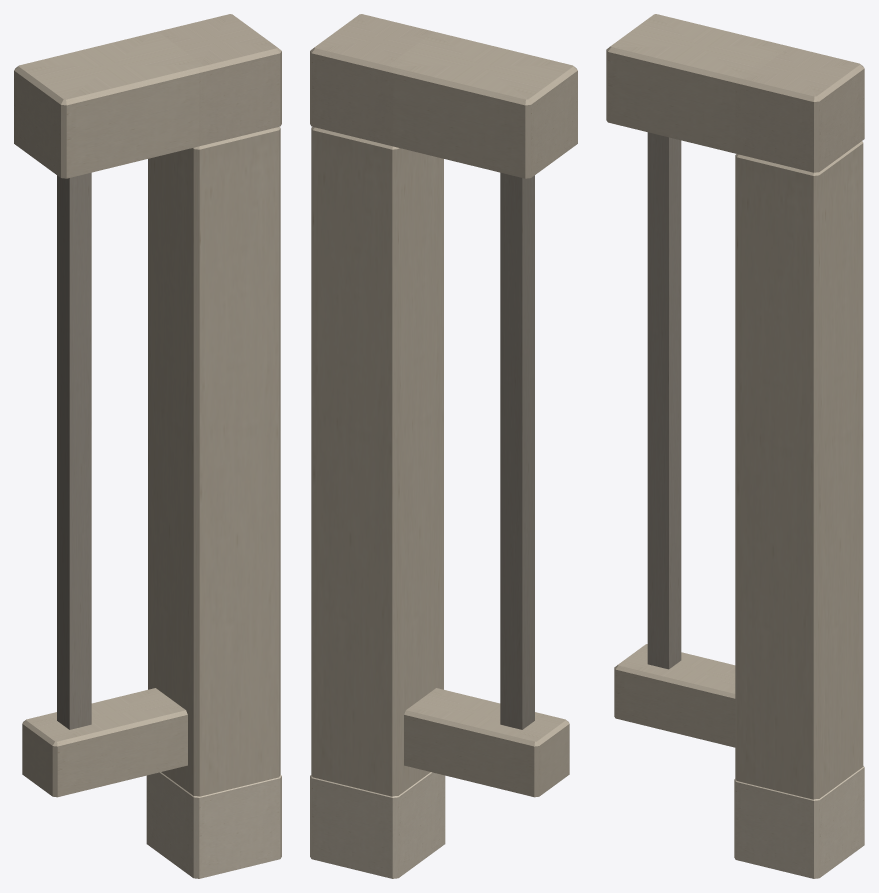
File: porch_railing_end.glb
3 renders of one model, left to right at view 1: azimuth 30°, elevation 25°; view 2: azimuth 150°, elevation 25°; view 3: azimuth 330°, elevation 25°, orthographic. The views are drawn at different scales.
Visible parts, largest first — view 1: outdoor_porch_railing_end; view 2: outdoor_porch_railing_end; view 3: outdoor_porch_railing_end.
Boxes of the visible parts, x1=… form: outdoor_porch_railing_end: x1=14, y1=14, x2=281, y2=878; outdoor_porch_railing_end: x1=310, y1=14, x2=577, y2=878; outdoor_porch_railing_end: x1=606, y1=14, x2=864, y2=878.
Size of the model in its own units: 0.3 by 1.05 by 0.12.
Materials: 2 (2 with a texture image).
